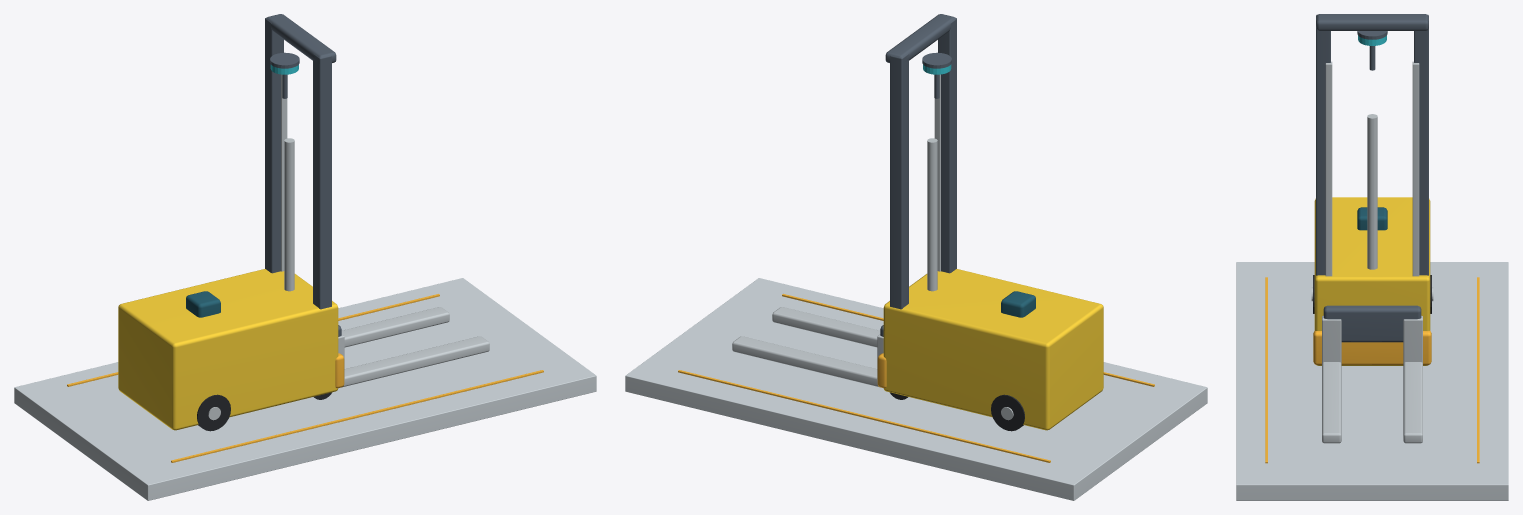
3 views of the same model, side by side, from view 1: azimuth 30°, elevation 25°; view 2: azimuth 150°, elevation 25°; view 3: azimuth 270°, elevation 25° (orthographic).
Visible parts, largest first — view 1: Ground plane, Power unit, Lift mast outer rail, Lift mast outer rail.001, Fork tine / pallet handling, Fork tine / pallet handling.001, Hydraulic lift cylinder, Mast crosshead, Concept clearance guide, Lift mast inner rail.001, Driven wheel / tyre, Operator display; view 2: Ground plane, Power unit, Lift mast outer rail.001, Lift mast outer rail, Fork tine / pallet handling.001, Fork tine / pallet handling, Hydraulic lift cylinder, Mast crosshead, Concept clearance guide.001, Lift mast inner rail, Driven wheel / tyre.001, Operator display; view 3: Ground plane, Power unit, Fork carriage, Lift mast outer rail, Lift mast outer rail.001, Front safety bumper, Mast crosshead, Lift mast inner rail, Lift mast inner rail.001, Hydraulic lift cylinder, Fork tine / pallet handling, Fork tine / pallet handling.001 (+5 smaller).
Boxes of the visible parts, <box> form: Ground plane: <box>14,278,596,500</box>; Power unit: <box>118,269,338,430</box>; Lift mast outer rail: <box>313,53,331,309</box>; Lift mast outer rail.001: <box>265,17,283,273</box>; Fork tine / pallet handling: <box>341,336,489,387</box>; Fork tine / pallet handling.001: <box>341,307,449,347</box>; Hydraulic lift cylinder: <box>284,138,294,291</box>; Mast crosshead: <box>266,14,336,62</box>; Concept clearance guide: <box>171,370,543,462</box>; Lift mast inner rail.001: <box>281,74,287,271</box>; Driven wheel / tyre: <box>197,394,230,431</box>; Operator display: <box>186,291,220,317</box>; Ground plane: <box>625,278,1207,500</box>; Power unit: <box>883,269,1103,430</box>; Lift mast outer rail.001: <box>890,53,908,309</box>; Lift mast outer rail: <box>938,17,956,273</box>; Fork tine / pallet handling.001: <box>732,336,880,387</box>; Fork tine / pallet handling: <box>772,307,880,347</box>; Hydraulic lift cylinder: <box>927,138,937,291</box>; Mast crosshead: <box>885,14,955,62</box>; Concept clearance guide.001: <box>678,370,1050,462</box>; Lift mast inner rail: <box>934,74,940,271</box>; Driven wheel / tyre.001: <box>991,394,1024,431</box>; Operator display: <box>1001,291,1035,317</box>; Ground plane: <box>1236,262,1508,500</box>; Power unit: <box>1314,197,1430,365</box>; Fork carriage: <box>1323,305,1421,342</box>; Lift mast outer rail: <box>1316,15,1330,275</box>; Lift mast outer rail.001: <box>1414,15,1428,275</box>; Front safety bumper: <box>1313,331,1431,364</box>; Mast crosshead: <box>1316,14,1428,30</box>; Lift mast inner rail: <box>1325,61,1332,276</box>; Lift mast inner rail.001: <box>1412,61,1419,276</box>; Hydraulic lift cylinder: <box>1367,114,1377,269</box>; Fork tine / pallet handling: <box>1322,362,1341,443</box>; Fork tine / pallet handling.001: <box>1403,362,1422,443</box>.
Bounding box in the file's own units: 3.49 × 2.71 × 1.8.
